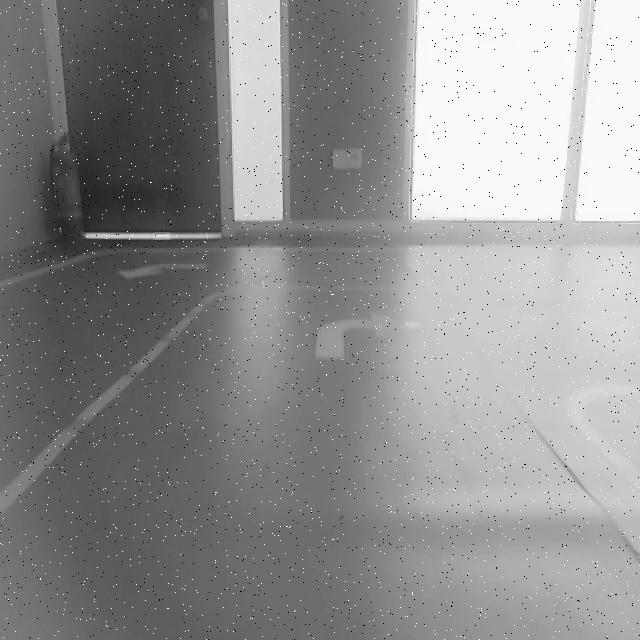left_lane: (0, 293, 219, 522)
right_lane: (558, 401, 640, 502)
